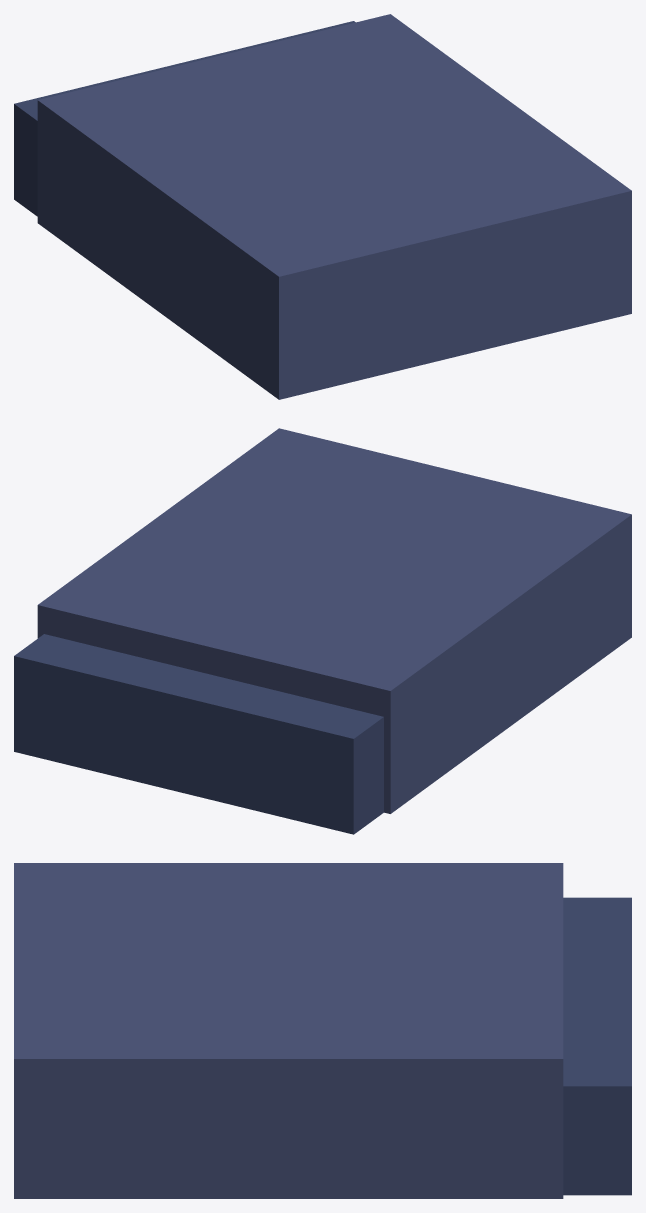
File: ninja_pe.glb
The picture shows the model from 3 angles, top to bottom: view 1: azimuth 30°, elevation 25°; view 2: azimuth 150°, elevation 25°; view 3: azimuth 270°, elevation 25°; orthographic projection. The views are drawn at different scales.
Visible parts, largest first — view 1: ninja_pe; view 2: ninja_pe; view 3: ninja_pe.
Boxes of the visible parts, box(x1,y1,x2,y2) form: ninja_pe: box(14, 14, 631, 399); ninja_pe: box(14, 428, 631, 834); ninja_pe: box(14, 863, 631, 1198).
Bounding box in the file's own units: 0.27 × 0.09 × 0.36.
